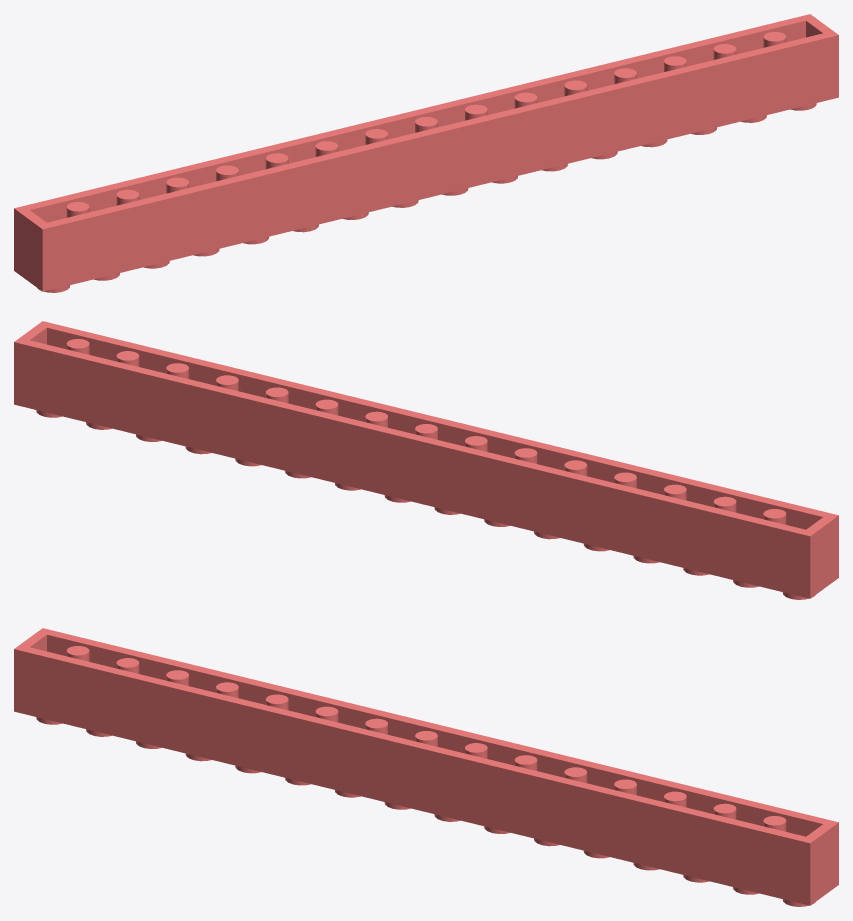
3 renders of one model, top to bottom at view 1: azimuth 30°, elevation 25°; view 2: azimuth 150°, elevation 25°; view 3: azimuth 330°, elevation 25°, orthographic.
Visible parts, largest first — view 1: LDrawPart; view 2: LDrawPart; view 3: LDrawPart.
Part boxes in pixels (<box>): LDrawPart: <box>14,14,838,292</box>; LDrawPart: <box>14,321,838,599</box>; LDrawPart: <box>14,628,838,906</box>.
Size of the model in its own units: 2.24 by 0.196 by 0.14.
